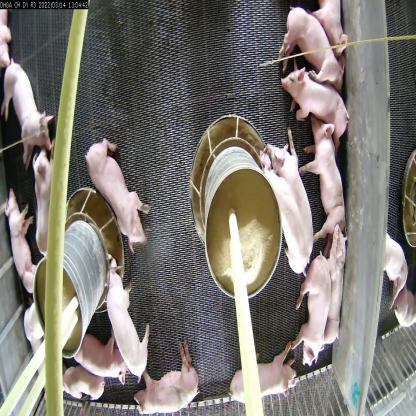Pig: (258, 136, 314, 271), (88, 136, 152, 253), (274, 3, 347, 103), (96, 261, 158, 374), (303, 113, 354, 234), (277, 61, 356, 136), (0, 55, 52, 156), (0, 186, 47, 296), (130, 346, 204, 415), (294, 249, 334, 374), (22, 151, 65, 262), (235, 352, 302, 413), (319, 219, 348, 352), (72, 321, 130, 386)
